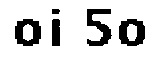5: (78, 6, 114, 48)
i: (47, 5, 67, 54)
o: (12, 17, 42, 49), (119, 17, 148, 48)
